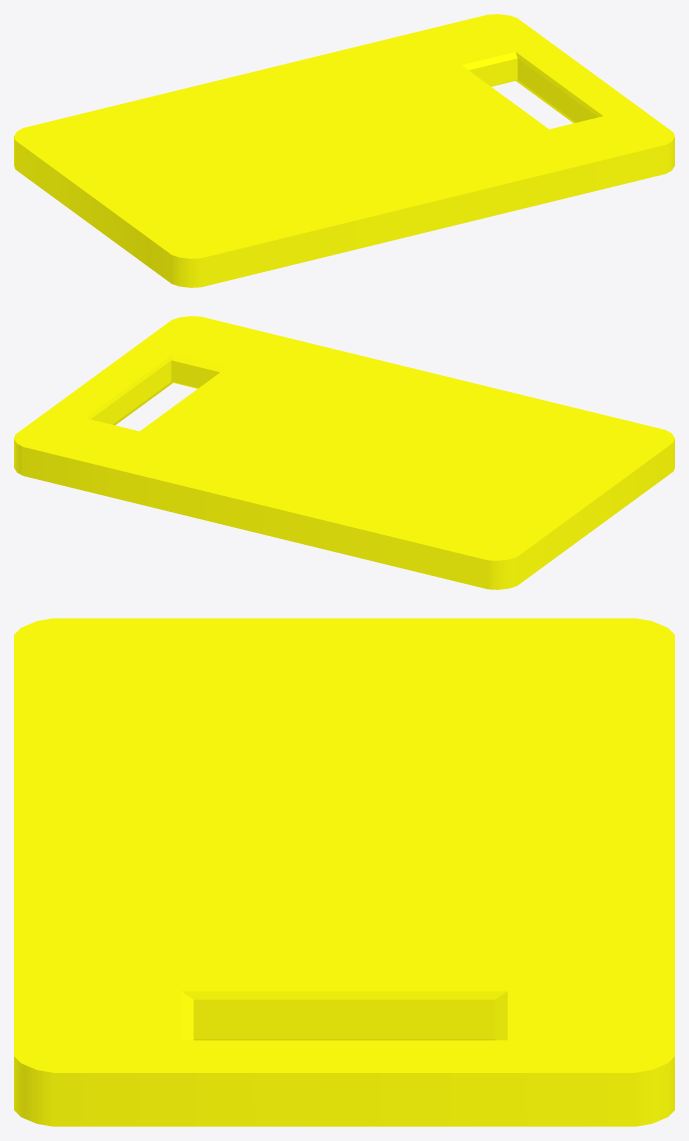
File: SM_CookingBoard01.glb
3 renders of one model, top to bottom at view 1: azimuth 30°, elevation 25°; view 2: azimuth 150°, elevation 25°; view 3: azimuth 270°, elevation 25°, orthographic. The views are drawn at different scales.
Parts seen in each view (by area): view 1: SM_CookingBoard01; view 2: SM_CookingBoard01; view 3: SM_CookingBoard01.
Boxes of the visible parts, x1,y1,x2,y2 form: SM_CookingBoard01: (14,14,674,287); SM_CookingBoard01: (14,316,674,589); SM_CookingBoard01: (14,618,674,1126).
Size of what is drawn, in the model's own units: 0.5751 by 0.0318 by 0.3533.
Materials: 1 (1 with a texture image).
